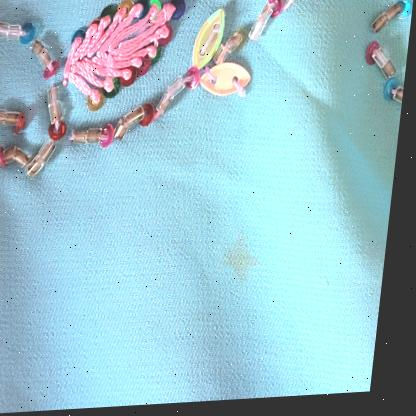spot: (225, 234, 266, 284)
